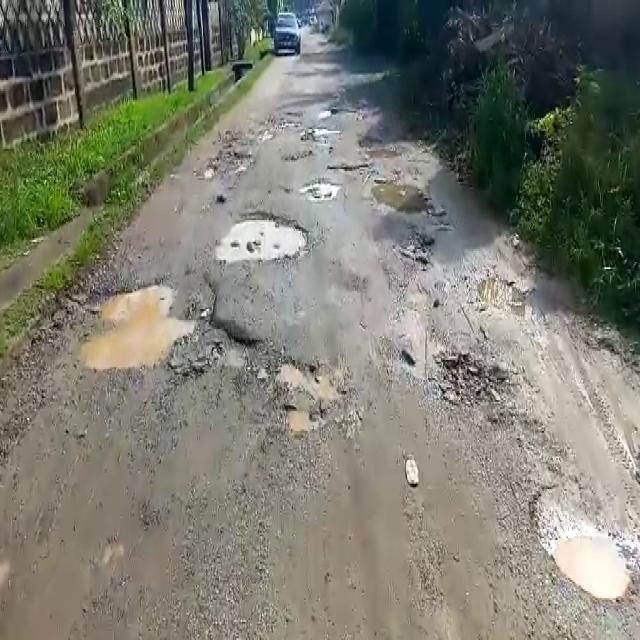Pothole: (78, 278, 216, 375), (262, 351, 344, 434), (435, 348, 519, 414), (215, 210, 311, 266), (469, 272, 531, 318), (325, 160, 374, 173)
